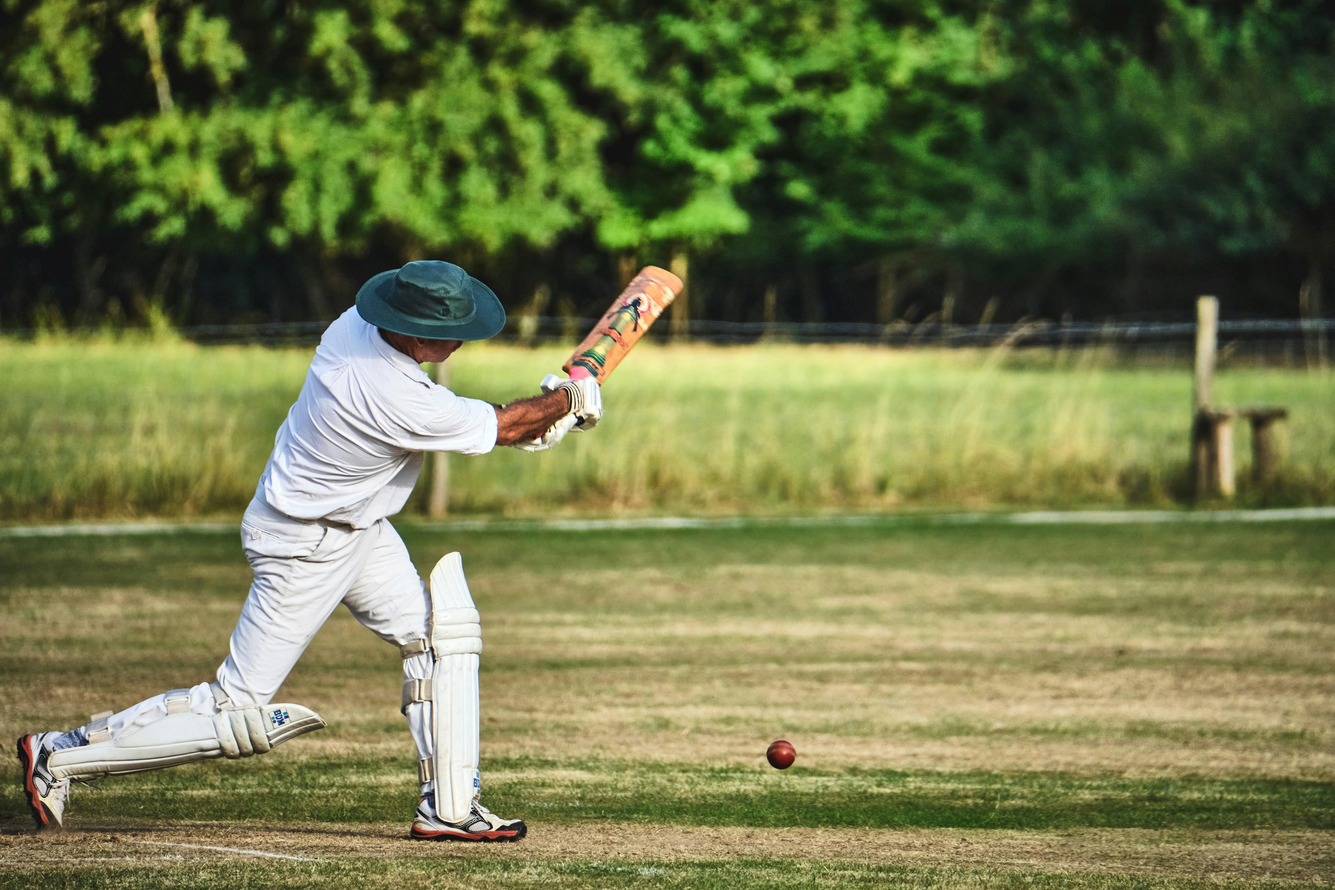batsman: (51, 210, 599, 858)
